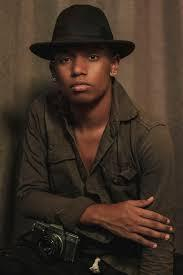cap: (24, 1, 141, 66)
